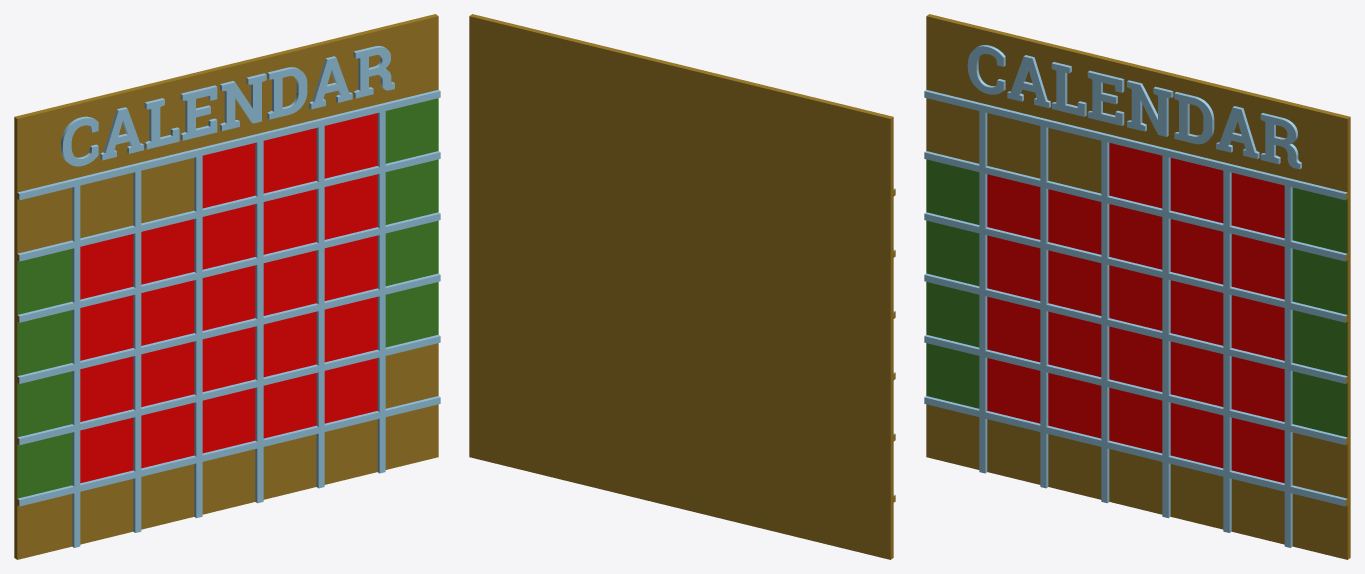
The model's file is Calendar.dae.
3 views of the same model, side by side, from view 1: azimuth 30°, elevation 25°; view 2: azimuth 150°, elevation 25°; view 3: azimuth 330°, elevation 25° (orthographic).
Parts seen in each view (by area): view 1: ID2; view 2: ID2; view 3: ID2.
Boxes of the visible parts, x1,y1,x2,y2 form: ID2: (14, 14, 440, 559); ID2: (469, 14, 895, 559); ID2: (924, 14, 1350, 559).
Size of the model in its own units: 0.6096 by 0.0127 by 0.6096.
